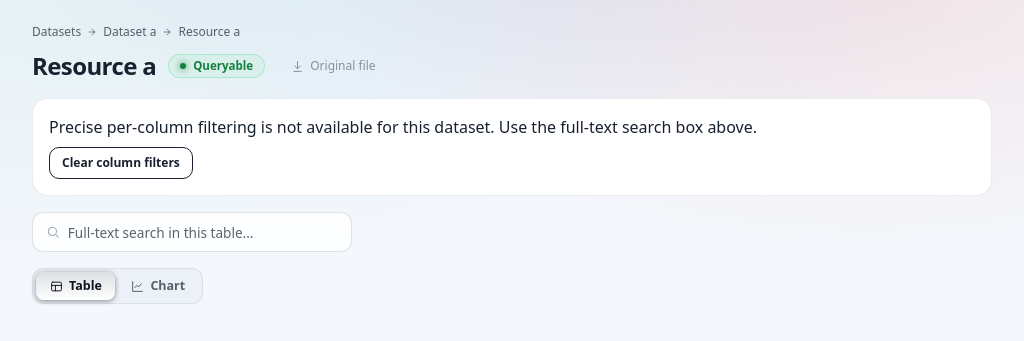
Scenario: ResourcePage navigation › unsupported live-filter deep links explain the limitation and can return to live rows
The width and height of the screenshot is (1024, 341).
Expected: the heading "Resource a" is shown, 32,50 -> 156,82
Expected: the text "Precise per-column filtering is not available for this dataset. Use the full-text search box above." is shown, 49,116 -> 757,138
Click the button "Clear column filters": (121, 163) 49,147 -> 193,179
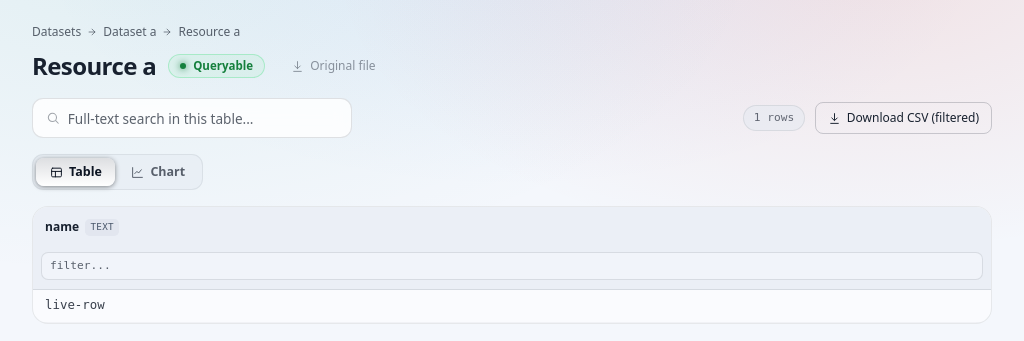
Result: the text "live-row" is shown at 33,290 -> 991,323
